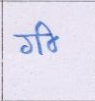i_matra: (39, 21, 59, 53)
